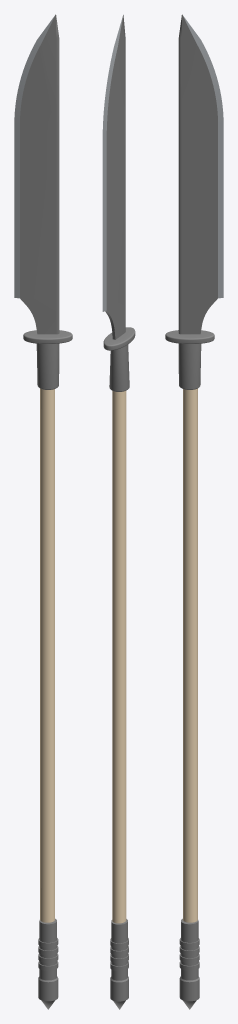
Rendered from glaive_3p.fbx.
The picture shows the model from 3 angles, left to right: view 1: azimuth 90°, elevation 25°; view 2: azimuth 150°, elevation 25°; view 3: azimuth 270°, elevation 25°; orthographic projection.
Parts seen in each view (by area): view 1: counterweight_5; view 2: counterweight_5; view 3: counterweight_5.
Part boxes in pixels (x1=…): counterweight_5: x1=14, y1=14, x2=72, y2=1009; counterweight_5: x1=102, y1=15, x2=135, y2=1009; counterweight_5: x1=165, y1=14, x2=223, y2=1009.
Size of the model in its own units: 5.28 by 249 by 13.21.
